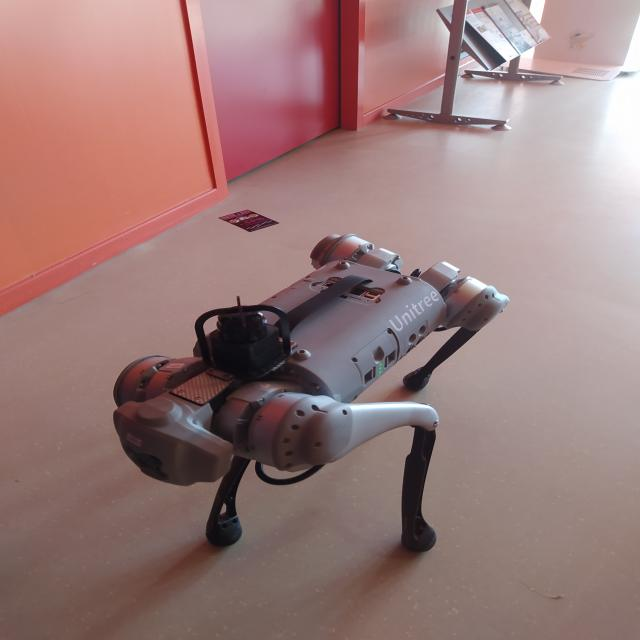unitree-go1-robot: (103, 222, 515, 578)
